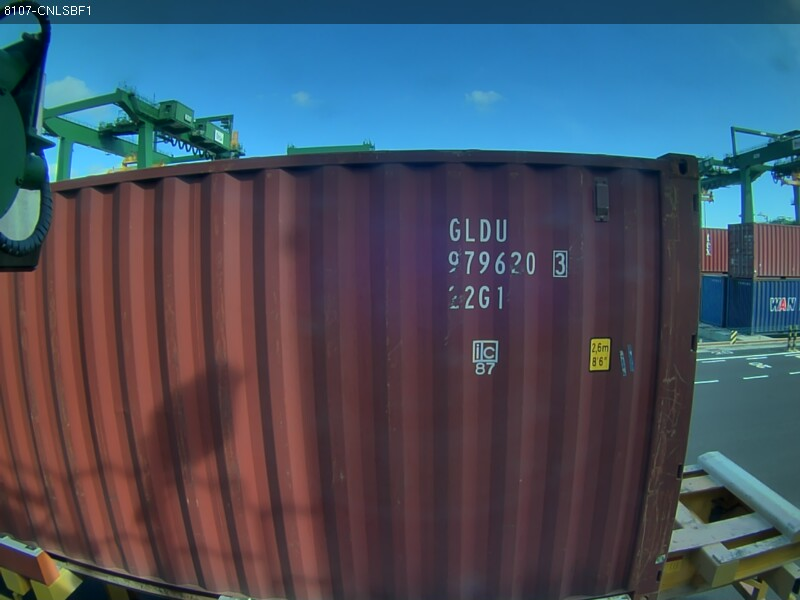container_no_door: (147, 140, 716, 559)
